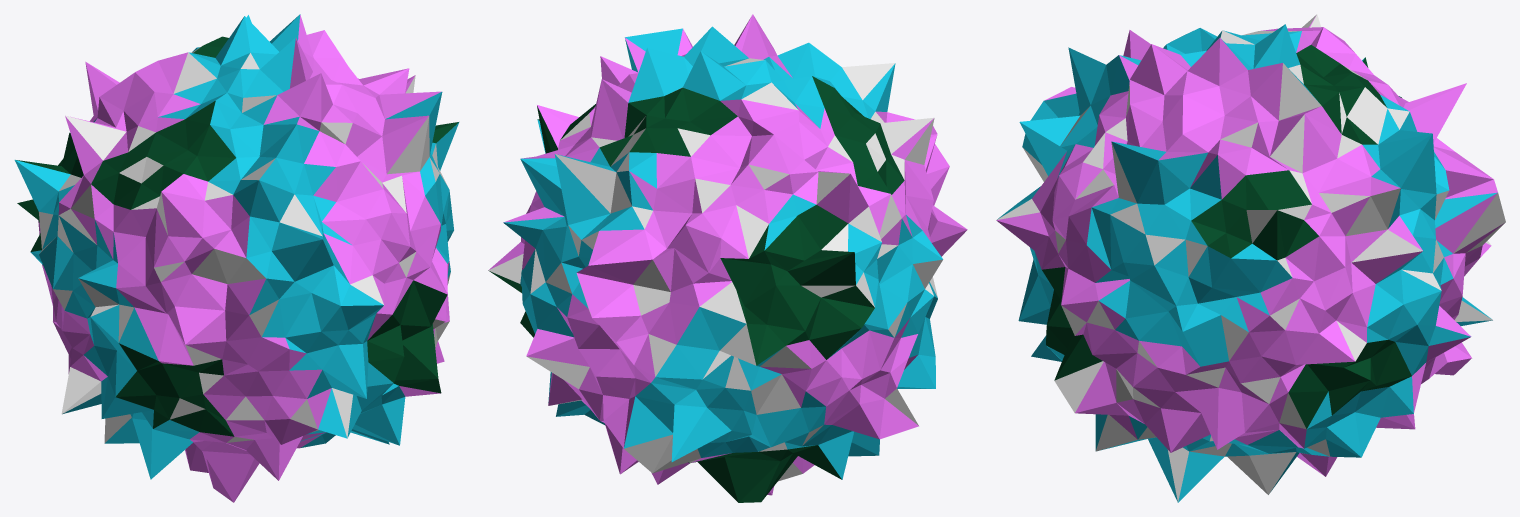
The model's file is Planet.fbx.
The picture shows the model from 3 angles, left to right: view 1: azimuth 30°, elevation 25°; view 2: azimuth 150°, elevation 25°; view 3: azimuth 270°, elevation 25°; orthographic projection. The views are drawn at different scales.
Parts seen in each view (by area): view 1: Icosphere; view 2: Icosphere; view 3: Icosphere.
Part boxes in pixels (box(x1,y1,x2,y2)): Icosphere: box(14, 14, 459, 502); Icosphere: box(488, 14, 967, 502); Icosphere: box(996, 14, 1505, 502).
Bounding box in the file's own units: 906 × 958 × 977.
